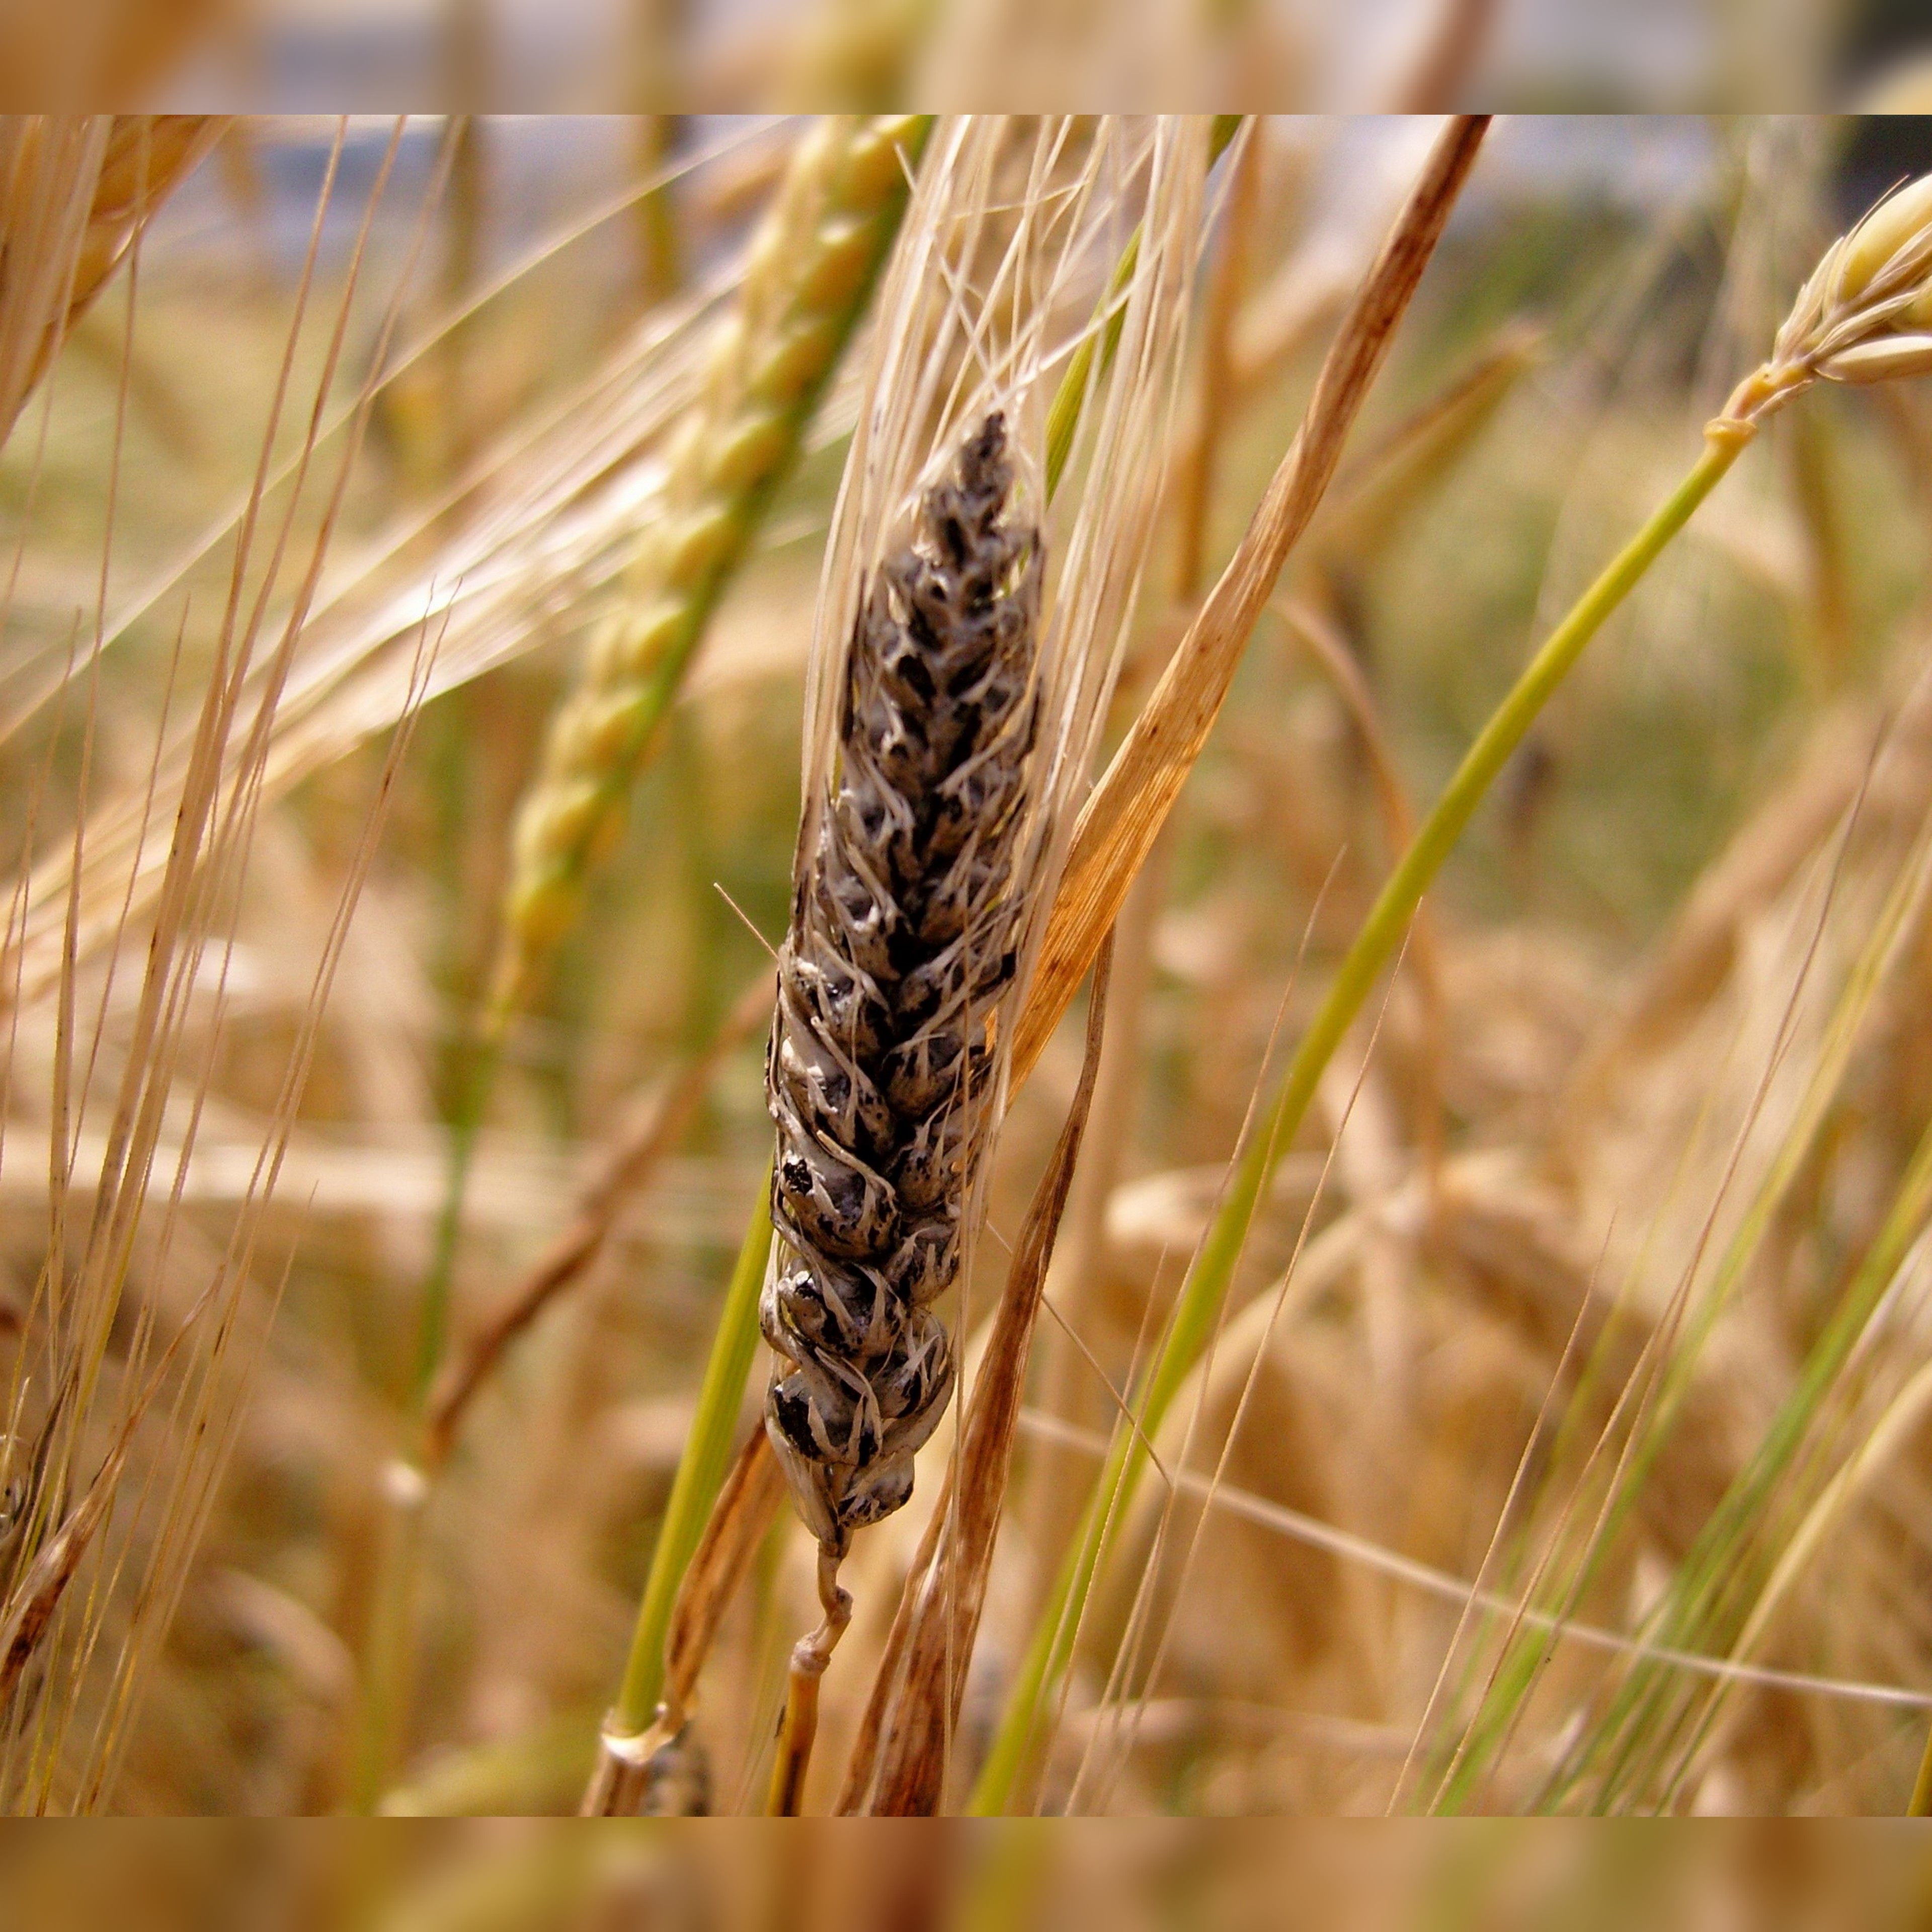Wheat Loose Smut: (732, 416, 1097, 1555)
